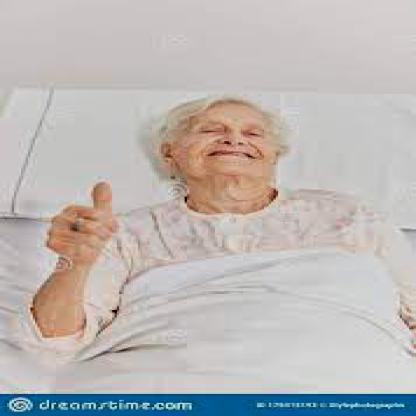Thumbs up: (22, 177, 129, 270)
